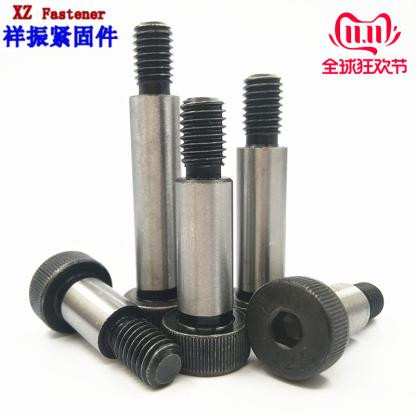FOD: (160, 94, 250, 378), (116, 18, 192, 348), (27, 248, 185, 392), (227, 67, 301, 370), (241, 276, 387, 386)
